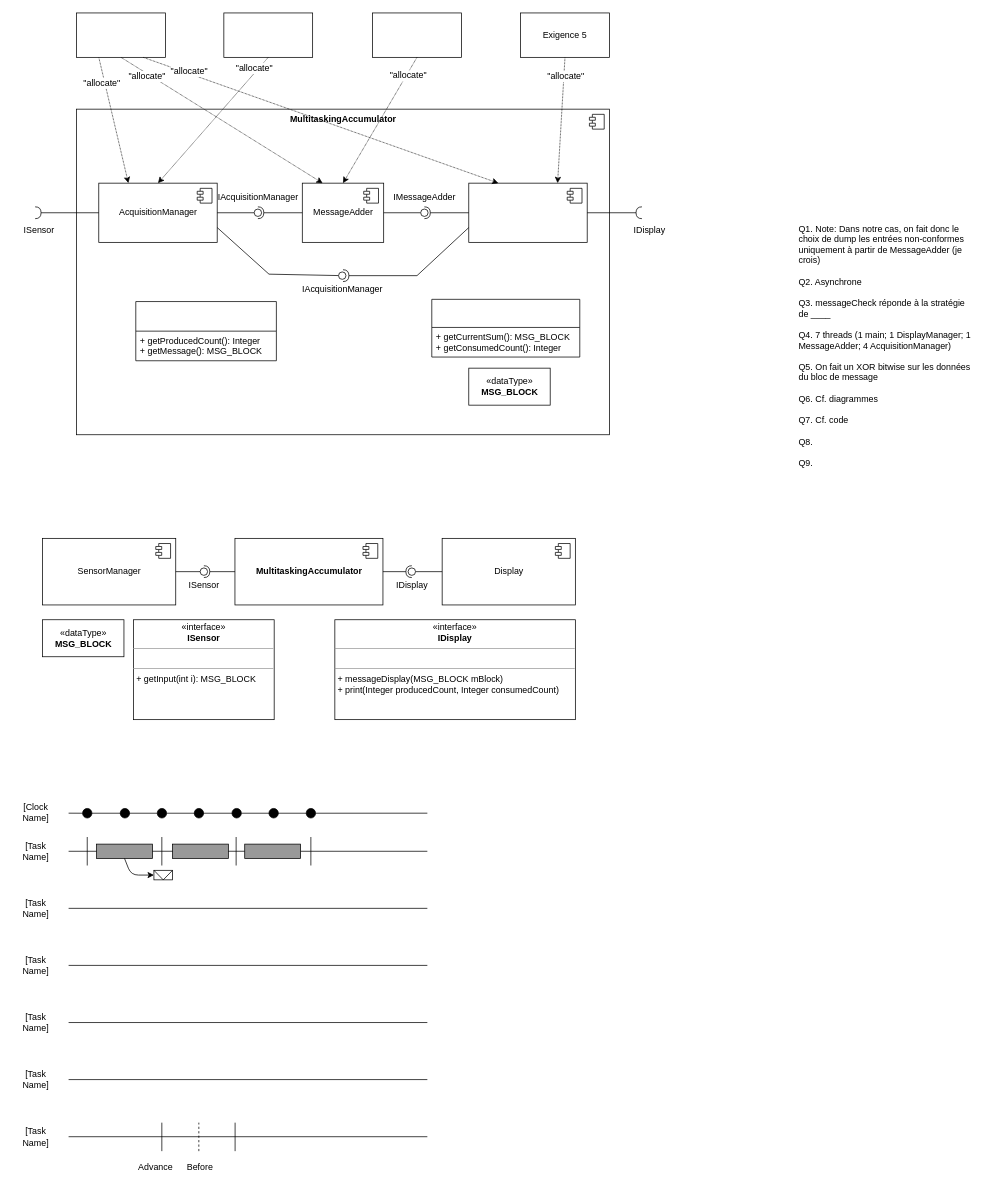
Image size: 987x1191. Some labels were removed from this diagram. The shapes that lost their labels are listed below. From the top down, each one's box as (x1, y1, x2, y2) in pixels, then its label:
(76, 12, 165, 57): Exigence 1 & 4
(223, 12, 313, 57): Exigence 2
(372, 12, 461, 57): Exigence 3
(468, 182, 587, 242): DisplayManager
(135, 301, 276, 361): «interface» IAcquisitionManager
(431, 299, 580, 357): «interface» IMessageAdder
